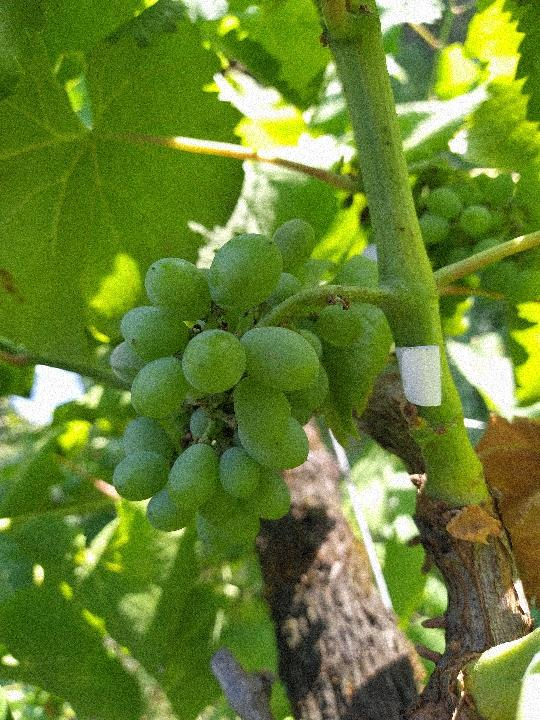grape: (109, 214, 362, 553)
